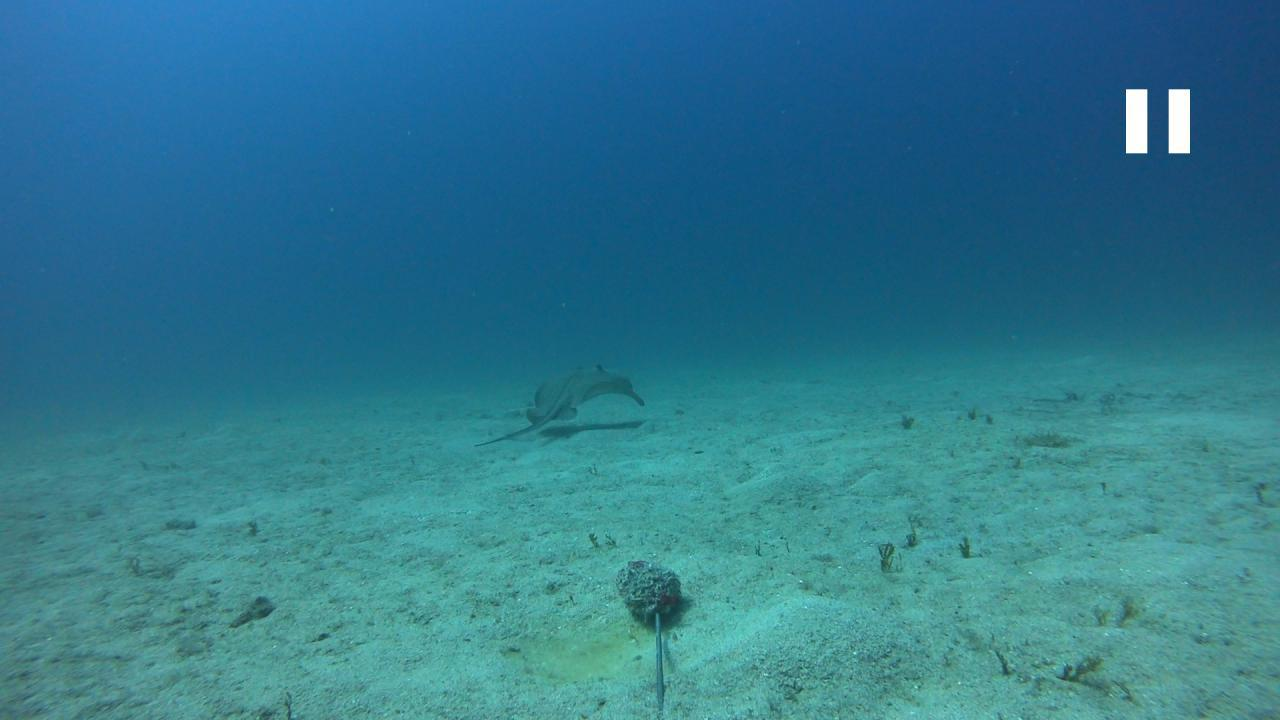dasyatis: (471, 362, 647, 446)
